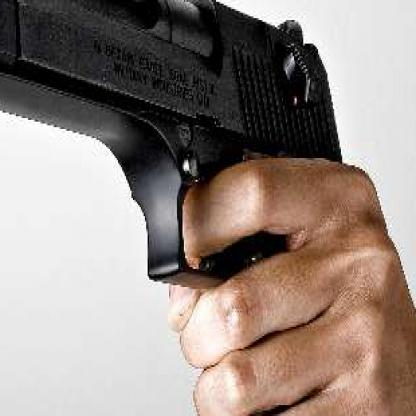gun: (0, 0, 384, 414)
